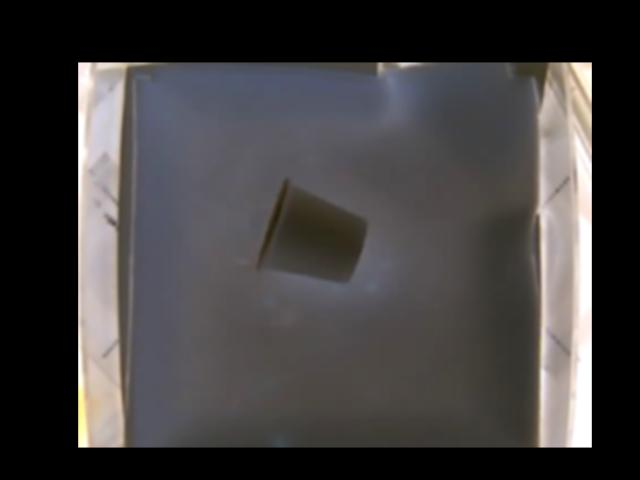Cup: (257, 177, 369, 283)
